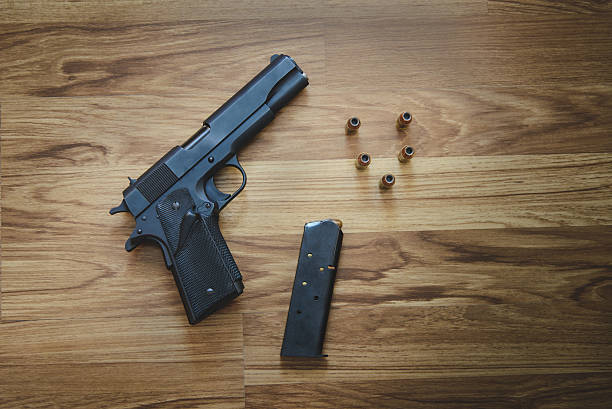gun: (108, 51, 311, 326)
